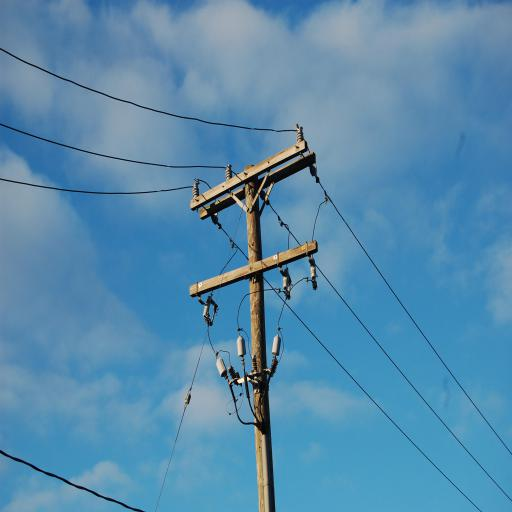mono_8: (181, 132, 328, 510)
